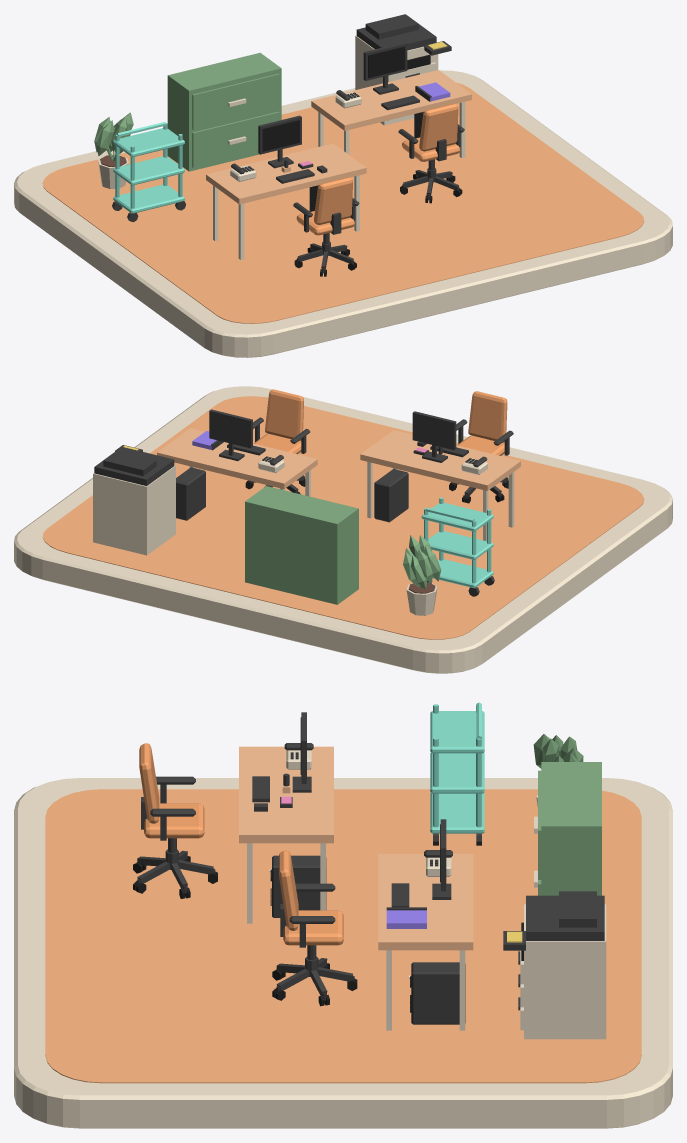
The model's file is room.fbx.
3 renders of one model, top to bottom at view 1: azimuth 30°, elevation 25°; view 2: azimuth 150°, elevation 25°; view 3: azimuth 270°, elevation 25°, orthographic. The views are drawn at different scales.
Parts seen in each view (by area): view 1: COM-02 Floor Surface, COM-01 Rounded Base Direct, Cabinet, Top, Top.001, Body, COM-04_Chair_blender_direct.001, COM-04_Chair_blender_direct, Pot, Frame.001, Frame, Tray.002 (+2 smaller); view 2: COM-02 Floor Surface, COM-01 Rounded Base Direct, Cabinet, Body, Top, Top.001, COM-04_Chair_blender_direct, COM-04_Chair_blender_direct.001, Pot, Frame, Tower, Frame.001 (+4 smaller); view 3: COM-02 Floor Surface, COM-01 Rounded Base Direct, Body, Cabinet, Top, Top.001, COM-04_Chair_blender_direct.001, COM-04_Chair_blender_direct, Tower.001, Tray.002, Tray.001, Tray (+5 smaller).
Part boxes in pixels (<box>): COM-02 Floor Surface: <box>42,83,644,323</box>; COM-01 Rounded Base Direct: <box>14,70,672,357</box>; Cabinet: <box>167,52,281,171</box>; Top: <box>206,143,366,259</box>; Top.001: <box>311,70,471,157</box>; Body: <box>355,14,451,125</box>; COM-04_Chair_blender_direct.001: <box>398,103,464,203</box>; COM-04_Chair_blender_direct: <box>293,177,359,276</box>; Pot: <box>94,112,133,188</box>; Frame.001: <box>363,42,407,94</box>; Frame: <box>258,115,301,168</box>; Tray.002: <box>113,128,184,157</box>; COM-02 Floor Surface: <box>42,396,644,639</box>; COM-01 Rounded Base Direct: <box>14,386,672,673</box>; Cabinet: <box>245,486,358,604</box>; Body: <box>93,445,175,555</box>; Top: <box>360,430,520,541</box>; Top.001: <box>157,428,317,496</box>; COM-04_Chair_blender_direct: <box>449,391,513,503</box>; COM-04_Chair_blender_direct.001: <box>245,389,310,494</box>; Pot: <box>403,535,441,615</box>; Frame: <box>412,411,456,462</box>; Tower: <box>374,469,408,522</box>; Frame.001: <box>209,409,252,461</box>; COM-02 Floor Surface: <box>45,789,641,1083</box>; COM-01 Rounded Base Direct: <box>14,778,672,1128</box>; Body: <box>503,891,606,1039</box>; Cabinet: <box>534,762,601,895</box>; Top: <box>239,746,333,923</box>; Top.001: <box>378,854,473,1030</box>; COM-04_Chair_blender_direct.001: <box>272,850,357,1006</box>; COM-04_Chair_blender_direct: <box>133,743,217,898</box>; Tower.001: <box>411,962,465,1024</box>; Tray.002: <box>430,711,484,753</box>; Tray.001: <box>430,752,484,793</box>; Tray: <box>430,793,484,833</box>.
Size of the model in its own units: 600 by 165 by 520.
